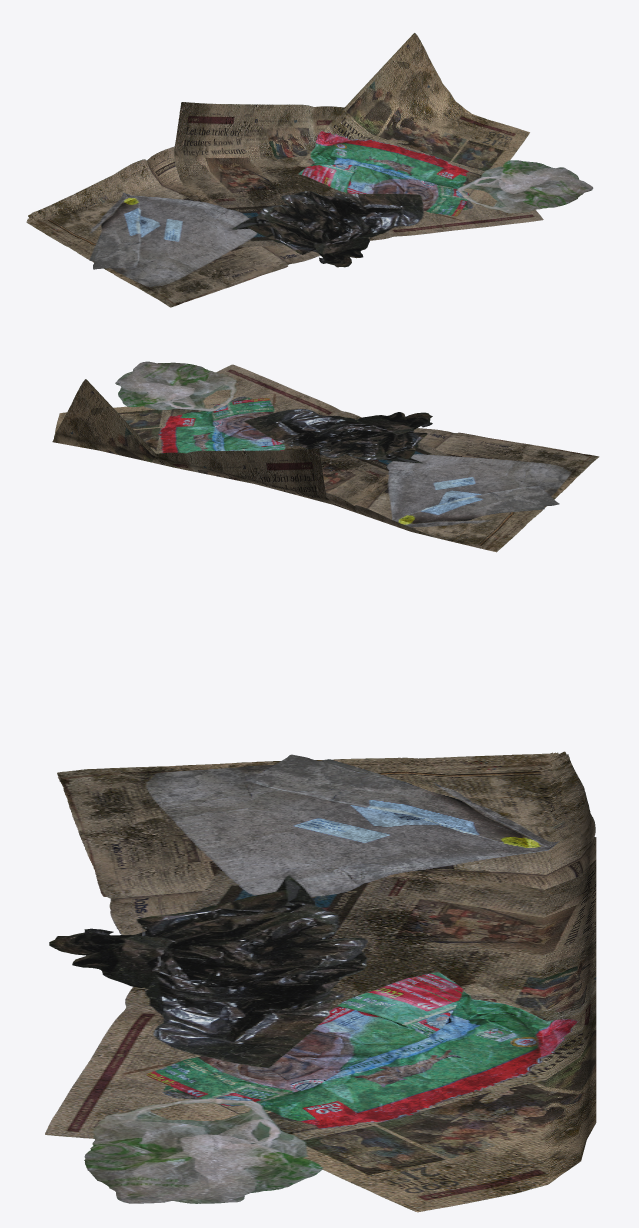
The model's file is 3D_Decal_10.fbx.
3 views of the same model, one above another, from view 1: azimuth 30°, elevation 25°; view 2: azimuth 150°, elevation 25°; view 3: azimuth 270°, elevation 25° (orthographic). The views are drawn at different scales.
Parts seen in each view (by area): view 1: THREED_Decal; view 2: THREED_Decal; view 3: THREED_Decal.
Part boxes in pixels (x1=…): THREED_Decal: x1=26, y1=33, x2=593, y2=307; THREED_Decal: x1=52, y1=361, x2=599, y2=552; THREED_Decal: x1=45, y1=751, x2=596, y2=1212.
Size of the model in its own units: 2.42 by 0.4172 by 1.23.
